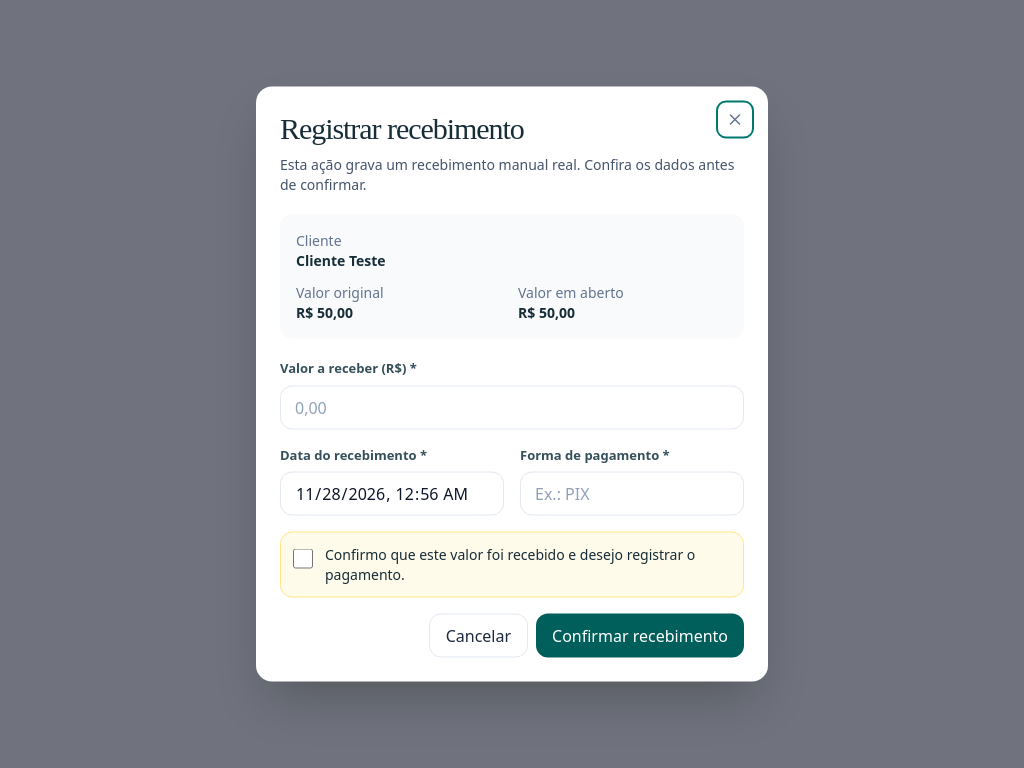
Test: recuperação segura do recebimento › persiste a intenção antes do POST sem dados de identificação do cliente
Type "20,00" into the field labelled "Valor a receber (R$) *" at x=512, y=407, box [280, 385, 744, 429]
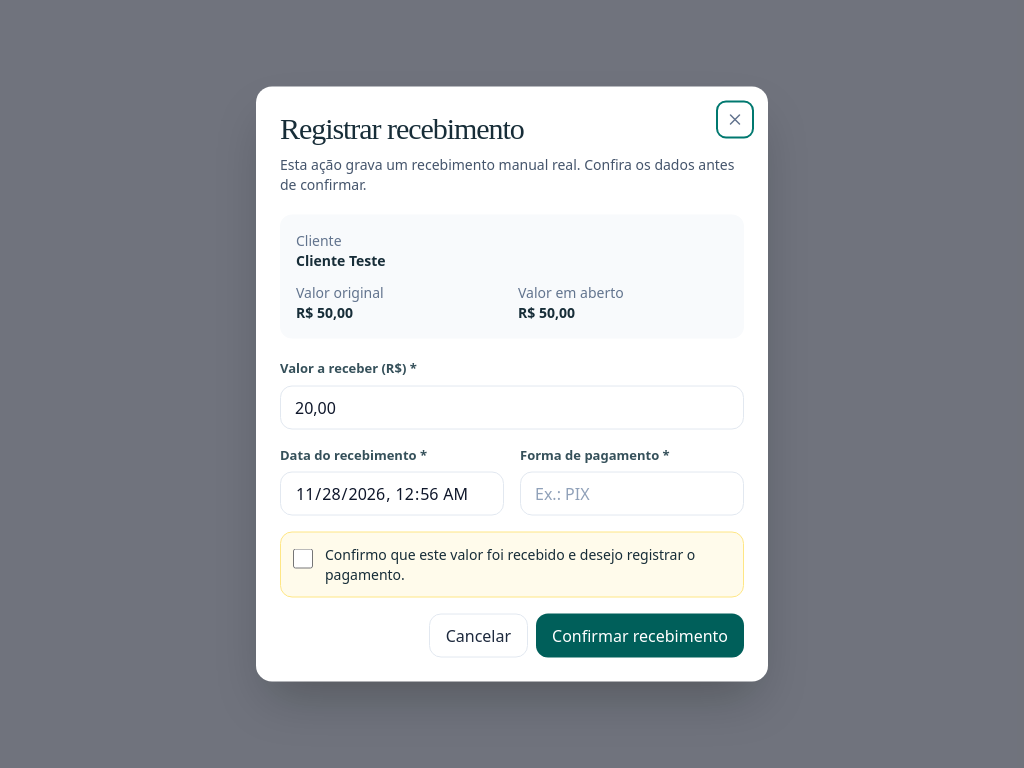
Type "PIX" into the field labelled "Forma de pagamento *" at x=632, y=494, box [520, 472, 744, 516]
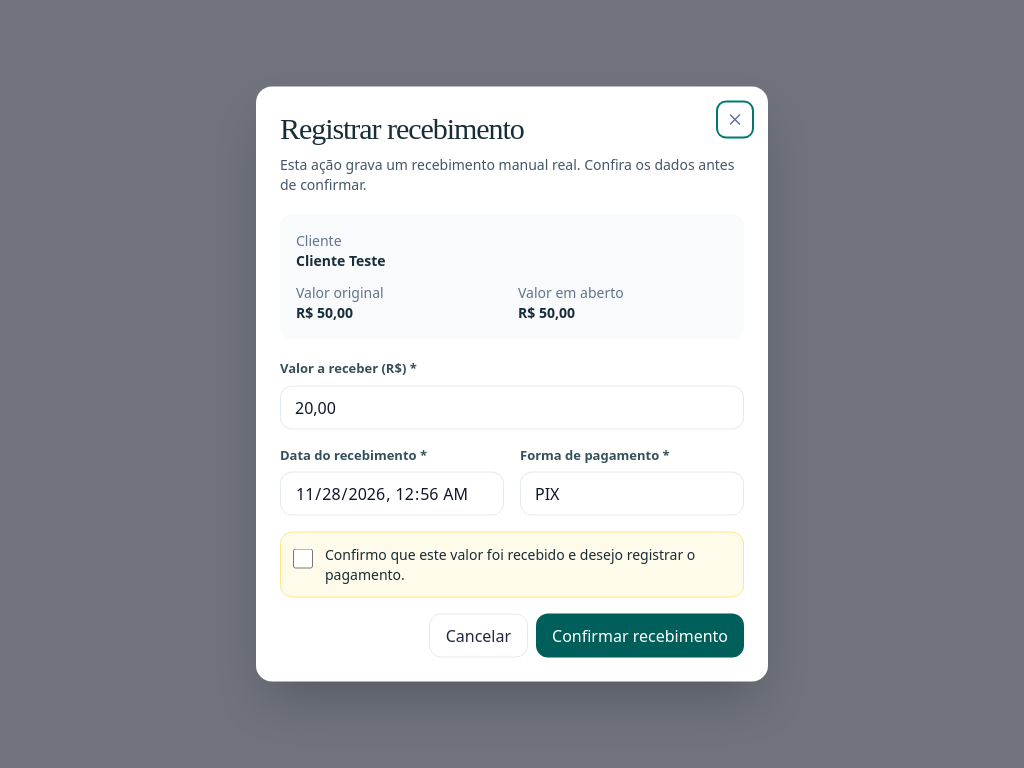
Click the checkbox at x=303, y=558, box [293, 548, 313, 568]
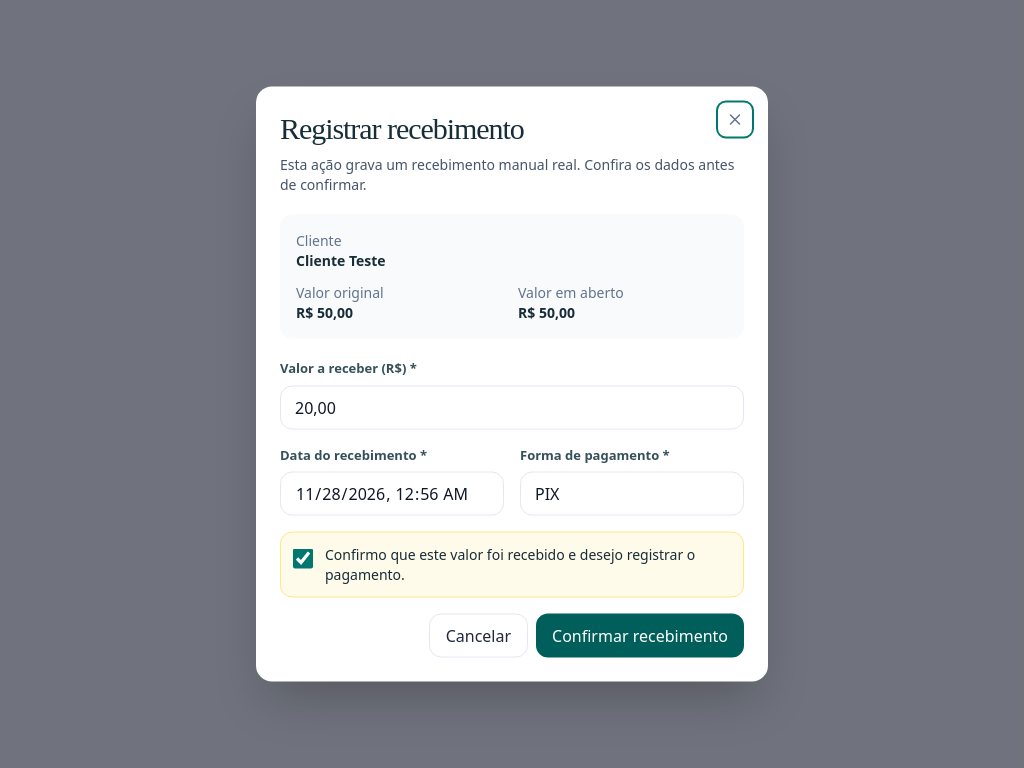
Click the button "Confirmar recebimento" at x=640, y=636, box [536, 614, 744, 658]
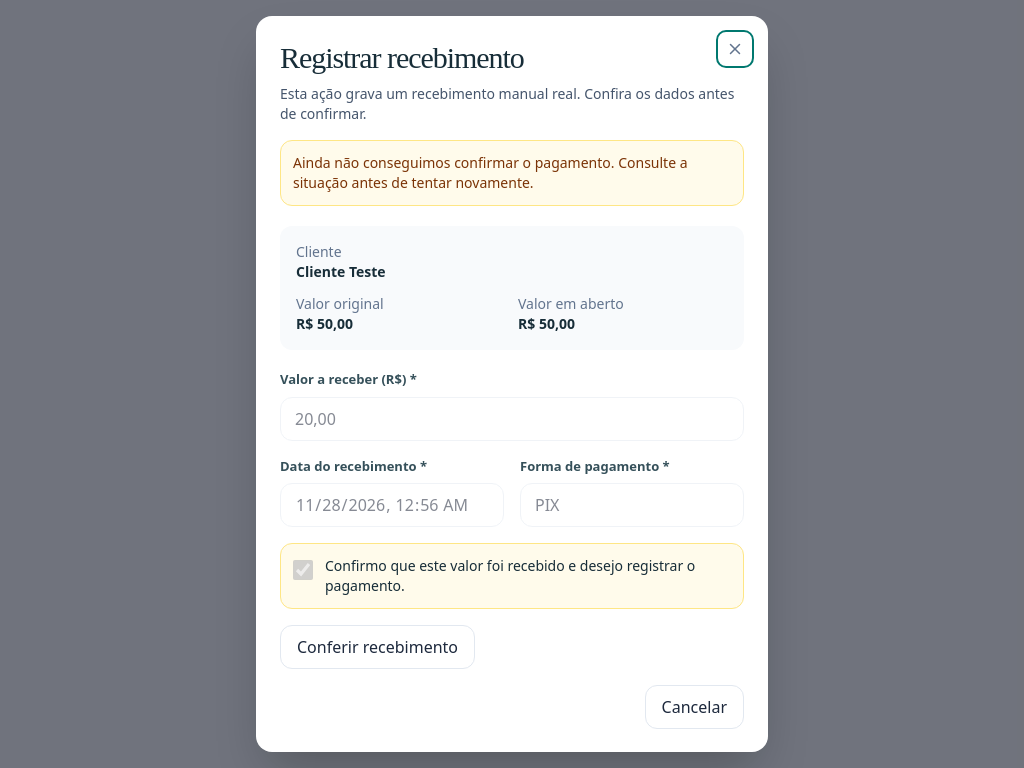
Expected: the button "Conferir recebimento" is shown, [280, 625, 475, 669]
